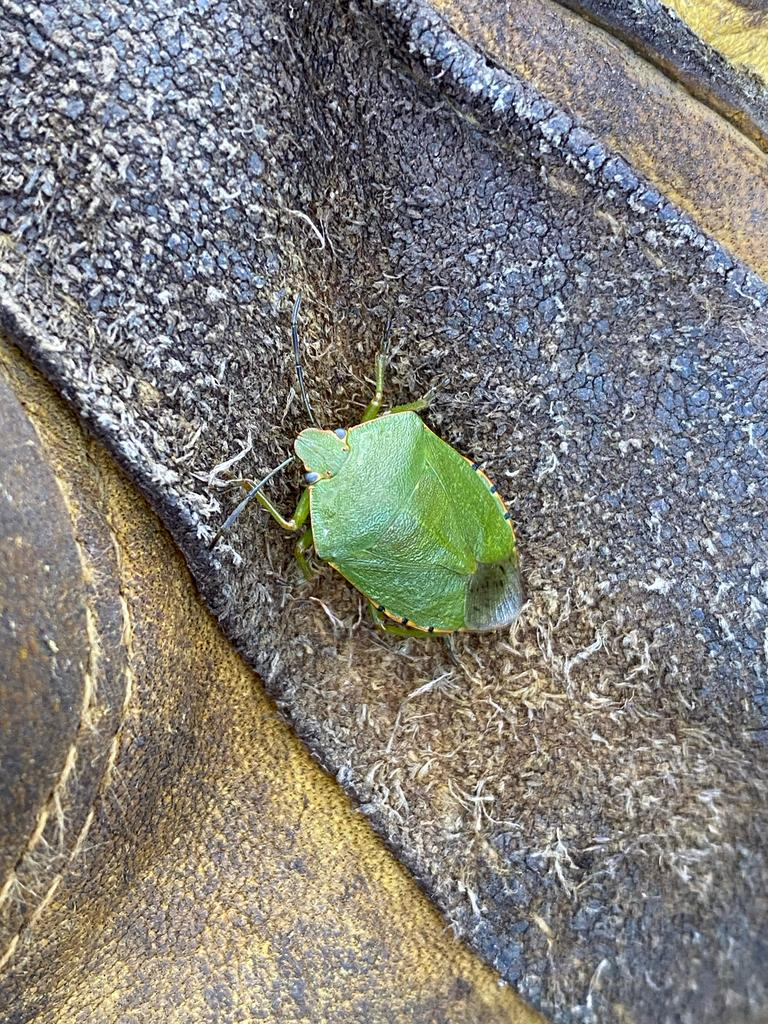stink_bugs: (146, 251, 625, 746)
